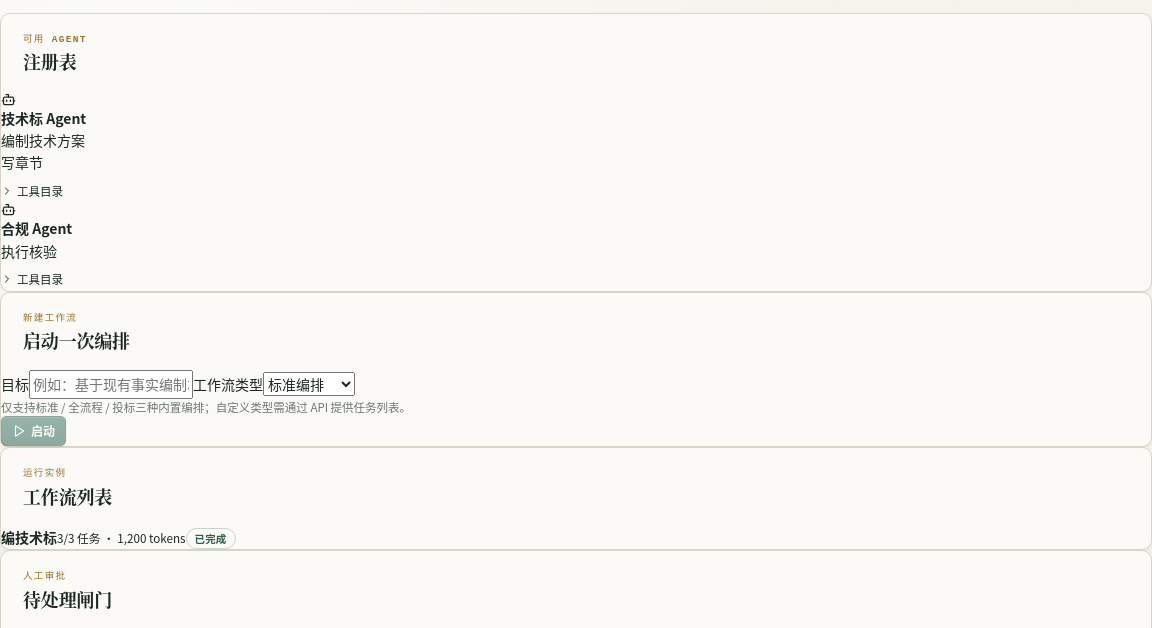
Scenario: AgentsTab › loads task timeline when a workflow is selected
The image size is (1152, 628).
Click the text "编技术标": coordinates (29, 537) [1, 527, 57, 547]
(page scrolled)
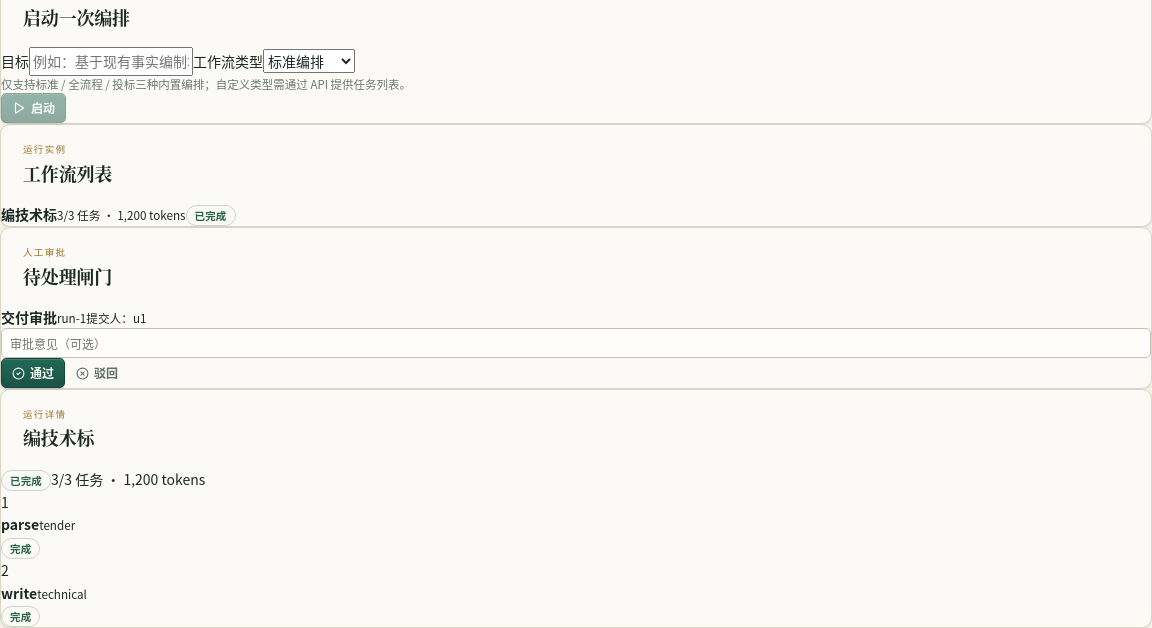
Now the text "parse" is shown, box [1, 514, 39, 534]
Now the text "write" is shown, box [1, 583, 37, 603]
